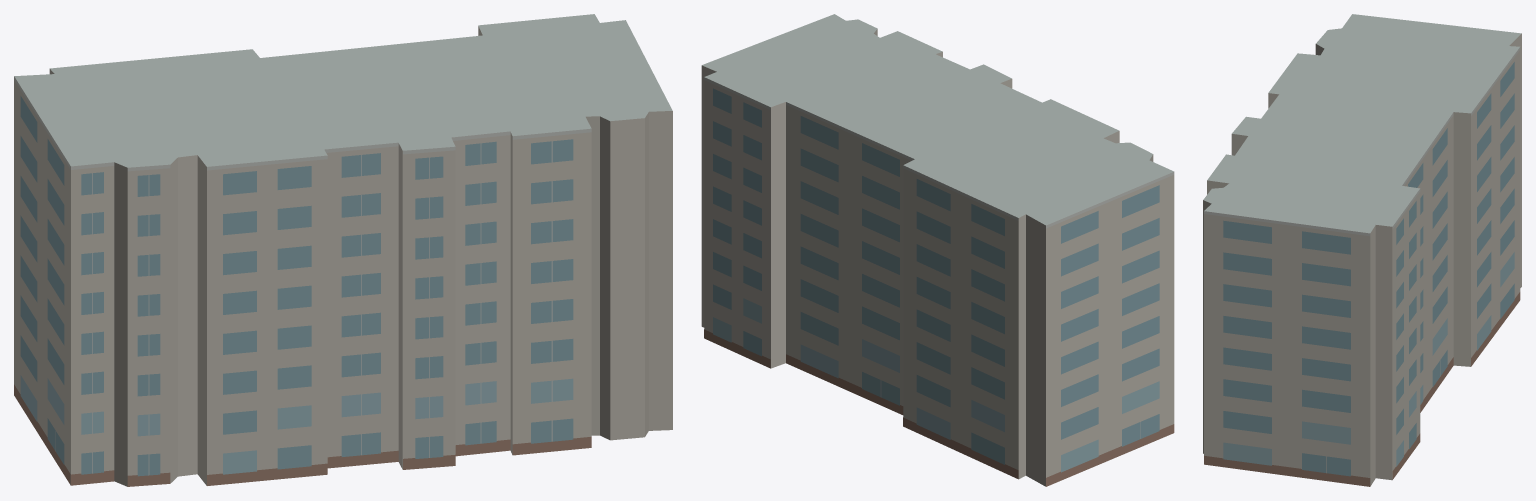
File: survey-upis-32855702.glb
3 renders of one model, left to right at view 1: azimuth 30°, elevation 25°; view 2: azimuth 150°, elevation 25°; view 3: azimuth 270°, elevation 25°, orthographic. The views are drawn at different scales.
Visible parts, largest first — view 1: survey-upis-32855702.tmp; view 2: survey-upis-32855702.tmp; view 3: survey-upis-32855702.tmp.
Boxes of the visible parts, left/top/right/bottom form: survey-upis-32855702.tmp: left=14, top=14, right=672, bottom=486; survey-upis-32855702.tmp: left=701, top=14, right=1174, bottom=486; survey-upis-32855702.tmp: left=1203, top=14, right=1521, bottom=486.
Size of the model in its own units: 39.74 by 21.4 by 24.39.
